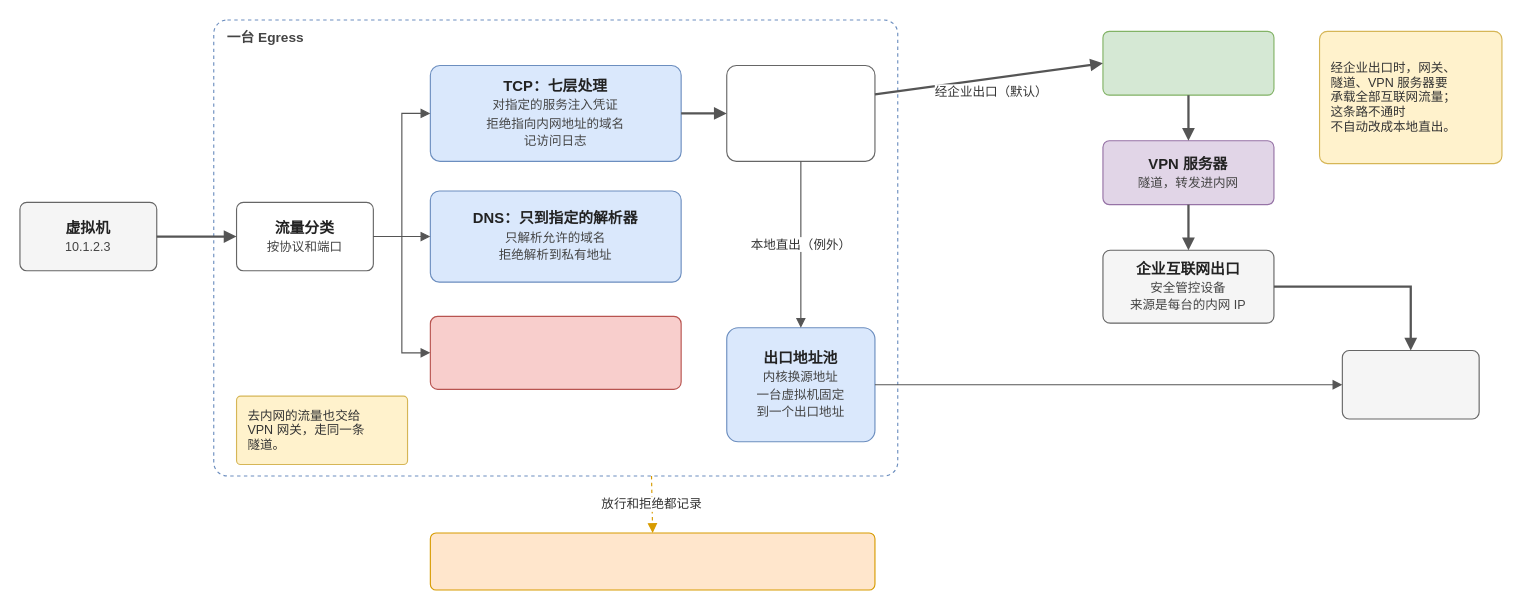
Image size: 1522x610. Some labels were removed from this diagram. The shapes that lost their labels are listed below. From the top down, each one's centre as x and y in pixels, then its label:
pixel 1188 62: VPN 网关 换成内网 IP
pixel 800 112: 出口模式 按块配置 单台可另行指定
pixel 555 352: 其余 UDP、ICMP 等 默认拒绝（含 QUIC）
pixel 1410 384: 互联网
pixel 652 561: 审计：谁、去哪里、何时、放行还是拒绝、用的出口地址
